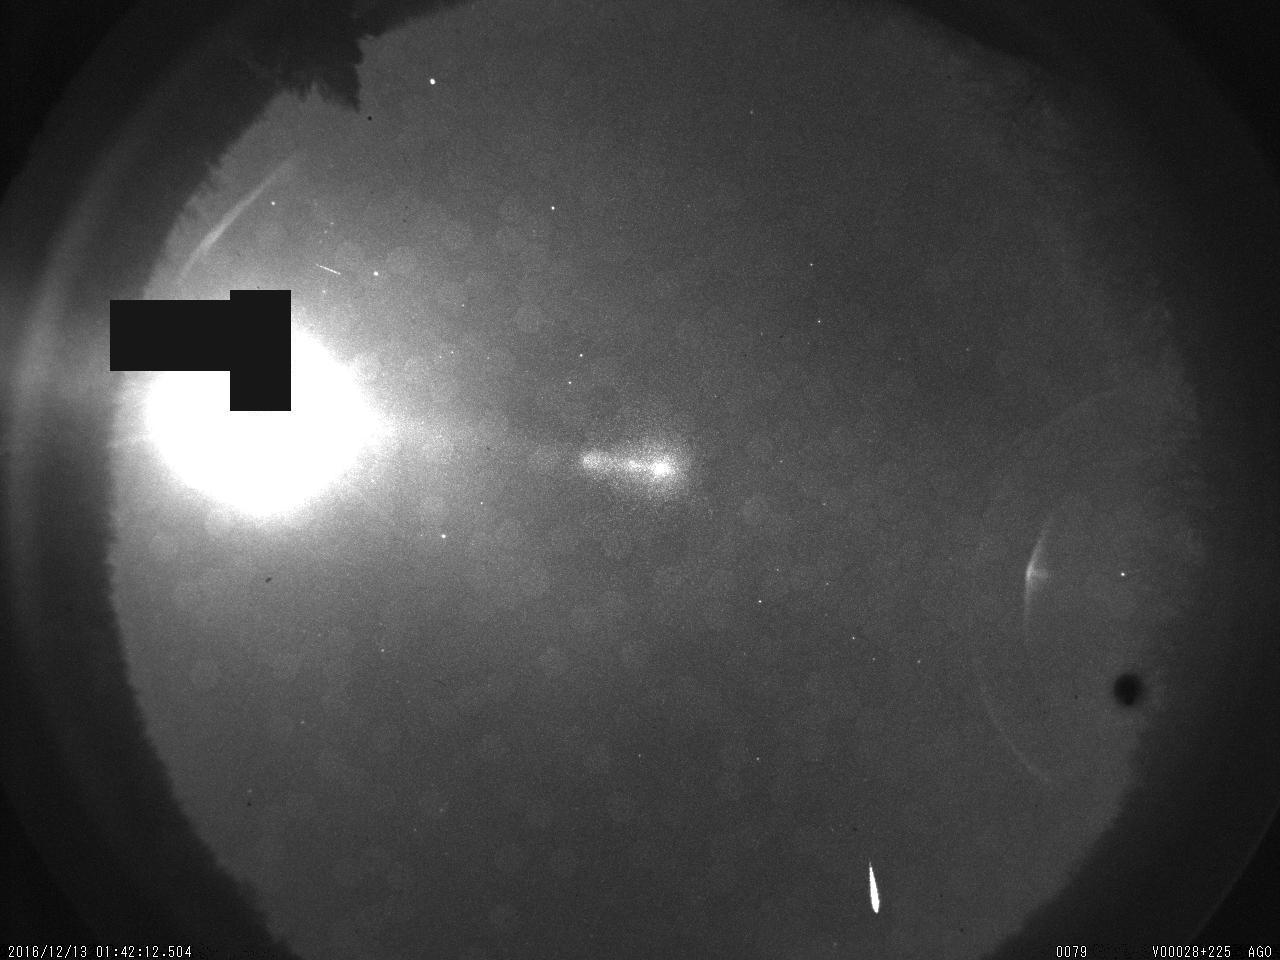Meteor: (860, 846, 889, 924)
